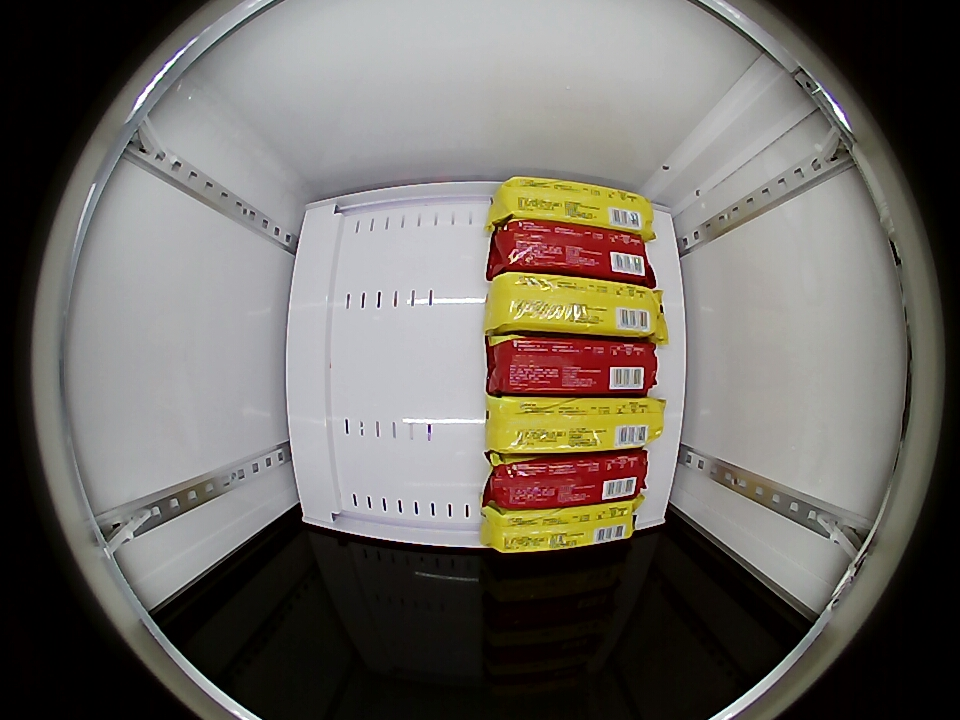3+2-2: (488, 274, 663, 338), (489, 395, 665, 453), (495, 176, 653, 234), (486, 504, 640, 553)
3jia2: (487, 337, 659, 394), (493, 222, 653, 280), (489, 453, 648, 509)
